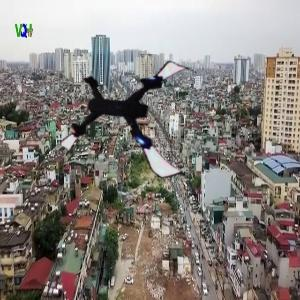drone: (69, 45, 201, 177)
